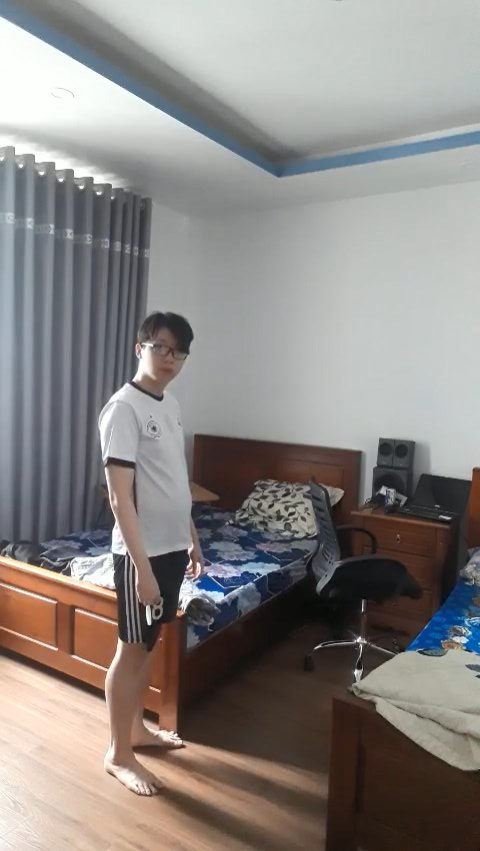cigarette: (143, 604, 153, 628)
person: (93, 304, 222, 811)
